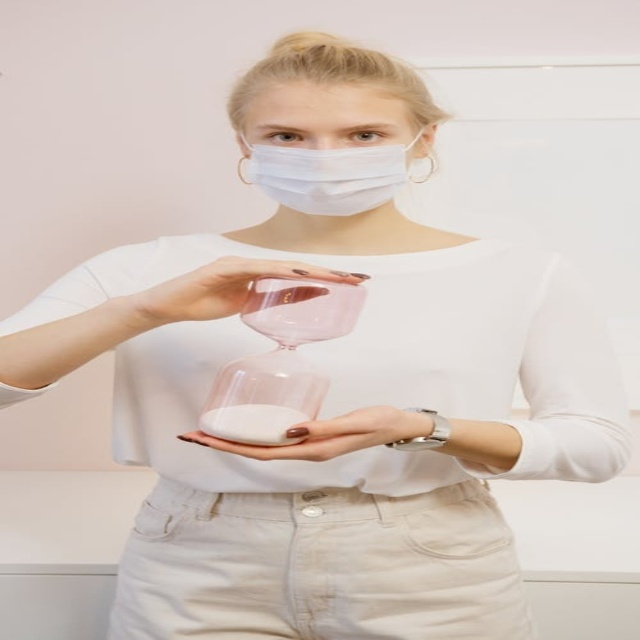Mascara: (239, 130, 420, 215)
Sin_gafas: (250, 117, 402, 146)
Sin_guantes: (125, 251, 374, 335), (182, 404, 420, 464)
